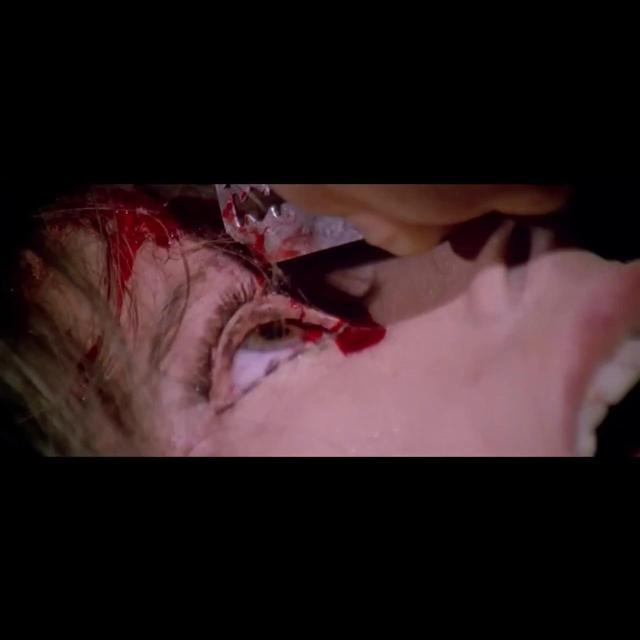blood: (40, 184, 394, 406)
